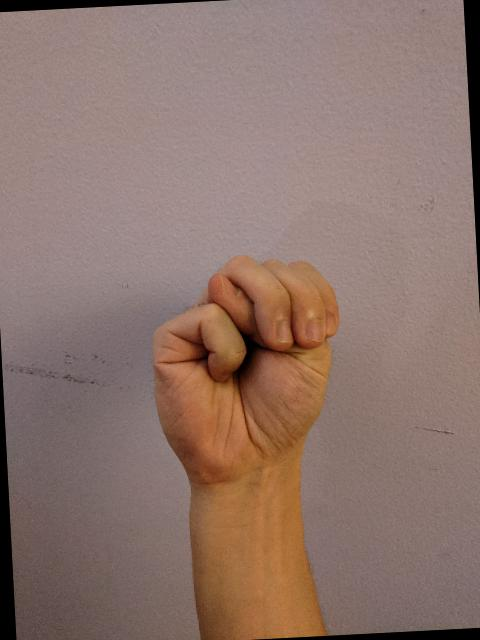M: (137, 243, 356, 500)
